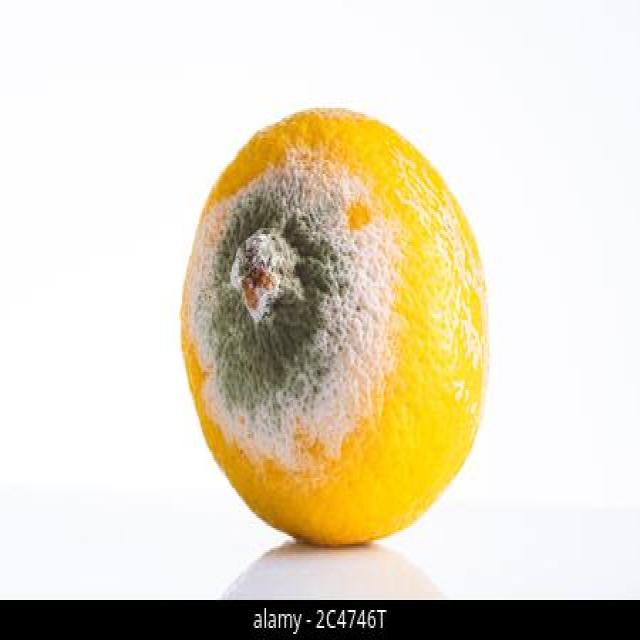Rotten: (178, 107, 492, 546)
